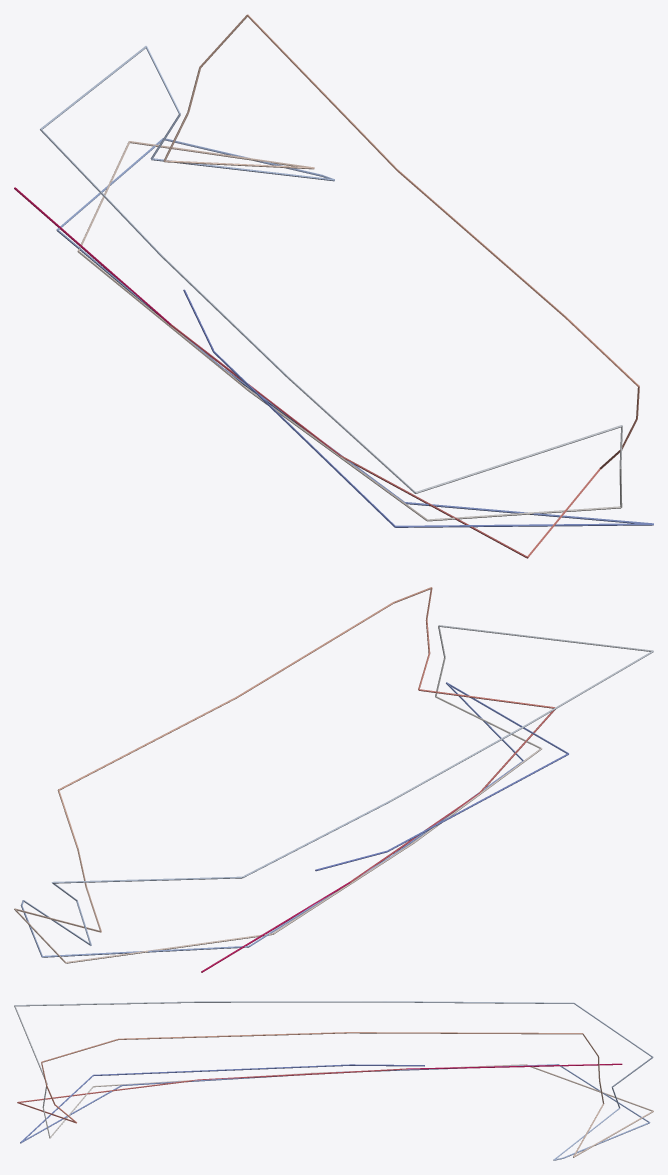
3 renders of one model, top to bottom at view 1: azimuth 30°, elevation 25°; view 2: azimuth 150°, elevation 25°; view 3: azimuth 270°, elevation 25°, orthographic. The views are drawn at different scales.
Visible parts, largest first — view 1: no part large enough to name; view 2: no part large enough to name; view 3: camera_trail_0001, camera_trail_0029, camera_trail_0030, camera_trail_0038, camera_trail_0037, camera_trail_0014, camera_trail_0015, camera_trail_0016, camera_trail_0036, camera_trail_0023.
Boxes of the visible parts, <box> form: camera_trail_0001: <box>93,1064,350,1076</box>; camera_trail_0029: <box>348,1032,582,1034</box>; camera_trail_0030: <box>118,1032,348,1039</box>; camera_trail_0038: <box>407,1063,622,1069</box>; camera_trail_0037: <box>197,1068,407,1080</box>; camera_trail_0014: <box>382,1001,573,1003</box>; camera_trail_0015: <box>194,1001,382,1002</box>; camera_trail_0016: <box>15,1001,194,1006</box>; camera_trail_0036: <box>18,1079,197,1102</box>; camera_trail_0023: <box>526,1064,653,1111</box>.
Bounding box in the file's own units: 3.58 × 1.88 × 9.08.
